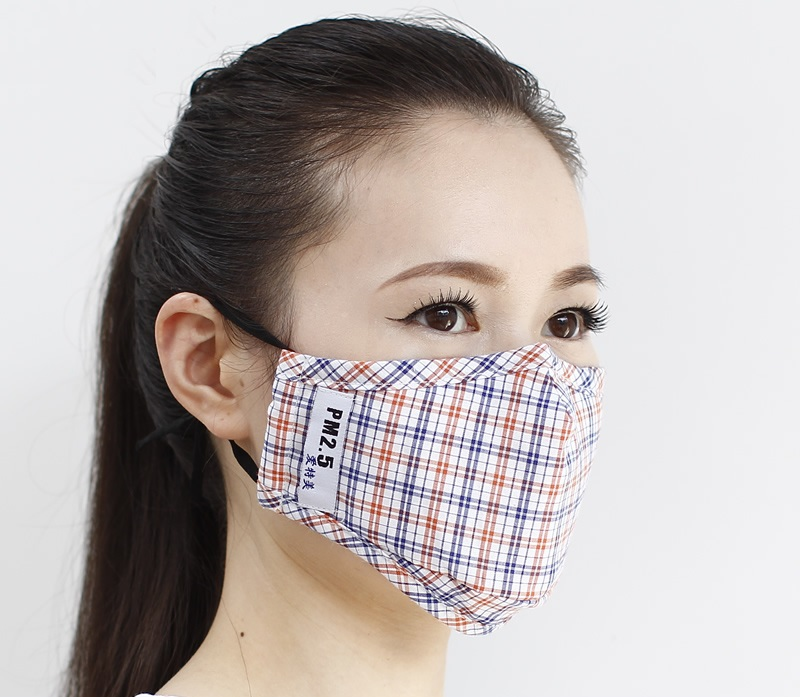face_mask: (273, 143, 607, 604)
